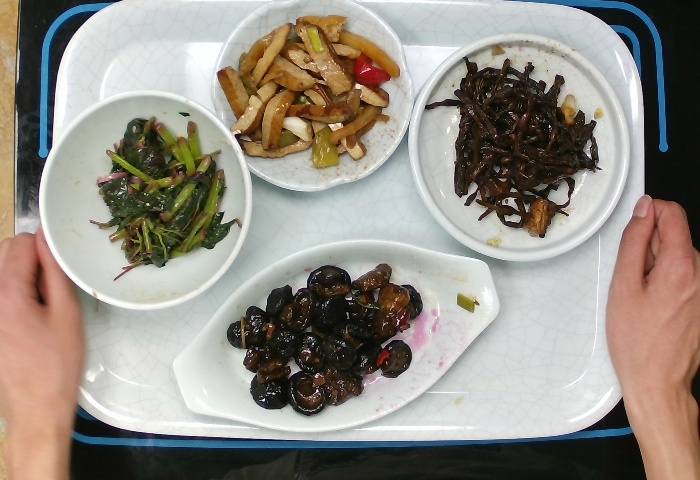JYsf-Ao_Yuan_Wan: (206, 3, 418, 200)
JYsf-Fan_Wan: (34, 82, 256, 313)
JYsf-Xiao_Yuan_Pan: (401, 25, 632, 268)
JYsf-Yu_Pan: (168, 233, 507, 439)
